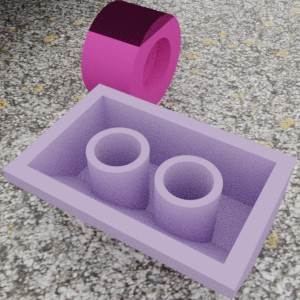lego: (2, 83, 297, 299), (81, 0, 181, 113)
